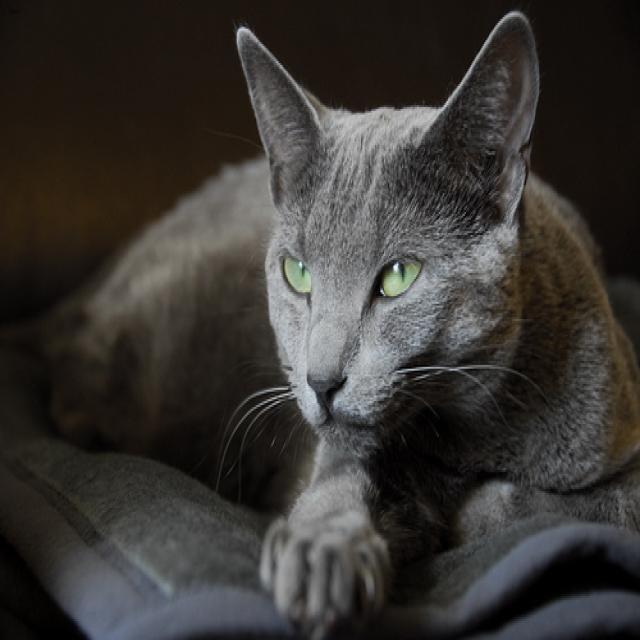Russian_Blue: (234, 6, 538, 453)
